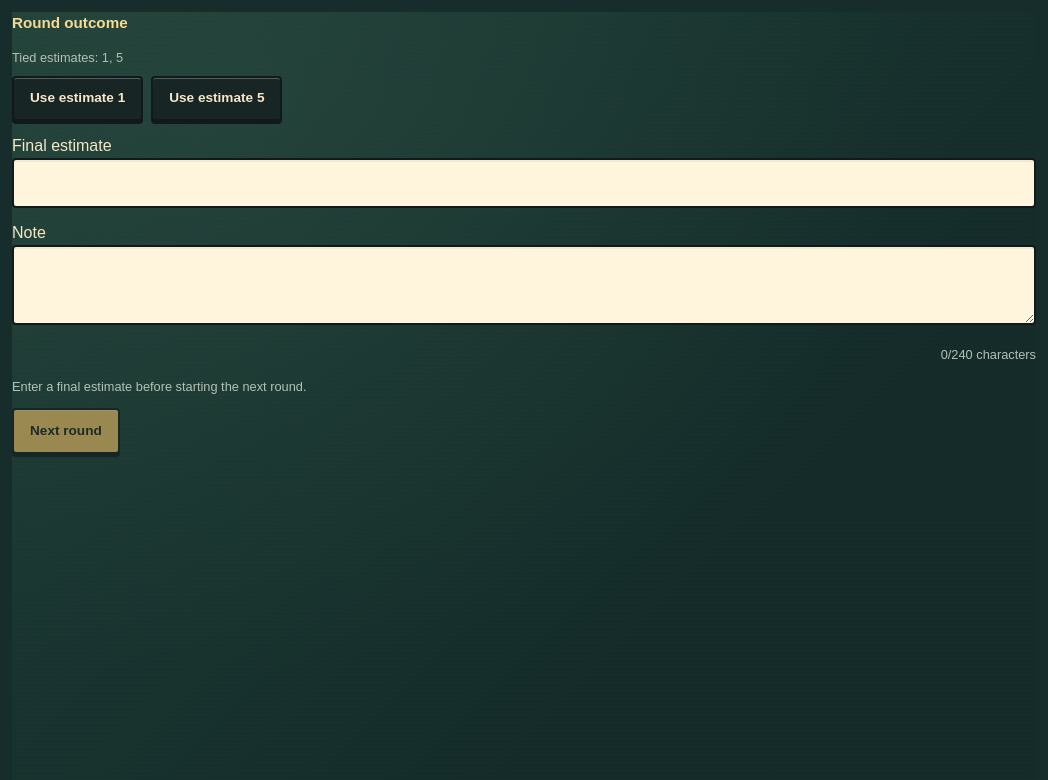
Test: RoundOutcomeForm › shows tied values and prevents advancing without an estimate
Expected: the text "Tied estimates: 1, 5" is shown, [12,50,123,65]
Expected: the button "Next round" is disabled, [12,408,120,454]
Click the button "Use estimate 1". click: [78, 98]
box: [12,76,143,121]
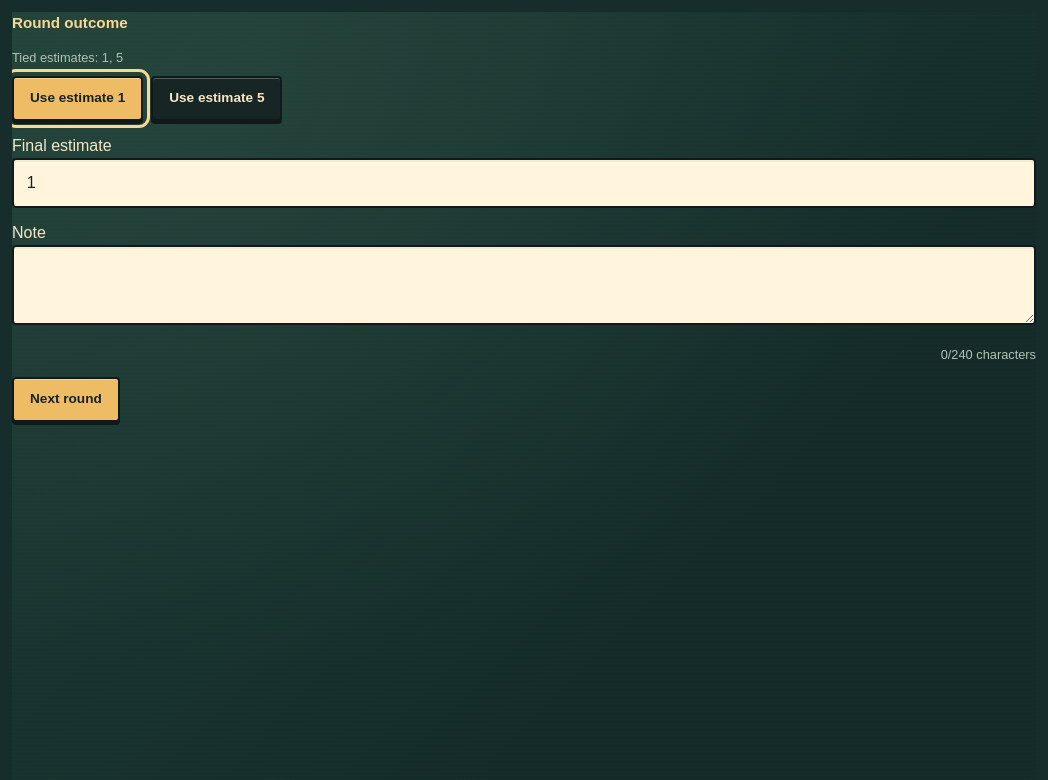
Expected: the button "Next round" is enabled, [12,376,120,422]
